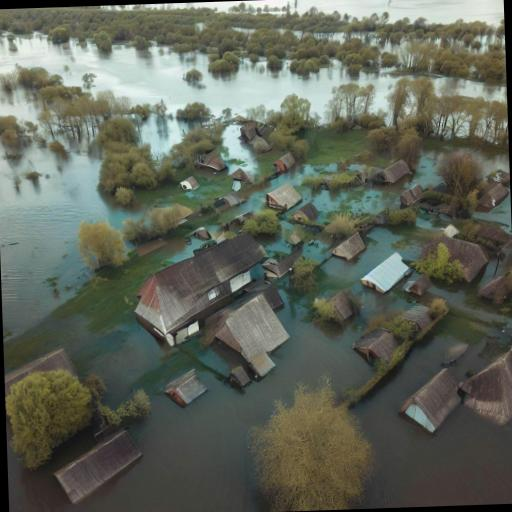flood: (3, 212, 466, 512), (355, 259, 512, 509), (0, 33, 396, 115), (0, 143, 145, 332), (218, 150, 440, 222), (297, 0, 504, 22), (139, 116, 187, 153), (436, 77, 507, 100), (257, 220, 299, 256), (224, 125, 255, 170), (474, 195, 511, 232), (0, 87, 40, 121), (302, 230, 334, 261), (478, 150, 509, 172), (169, 0, 241, 9), (243, 0, 294, 10)
house: (130, 228, 274, 342), (50, 426, 146, 504), (4, 348, 80, 420), (396, 366, 464, 436), (460, 345, 512, 429), (422, 232, 489, 283), (358, 251, 412, 298), (352, 327, 399, 363), (264, 180, 306, 216), (329, 231, 370, 265), (322, 290, 358, 320), (476, 176, 510, 206), (378, 159, 414, 186), (238, 118, 264, 145), (291, 202, 318, 222), (179, 175, 199, 191)
